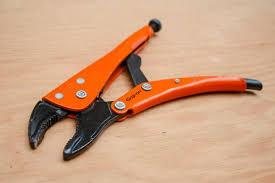pliers: (27, 18, 262, 161)
